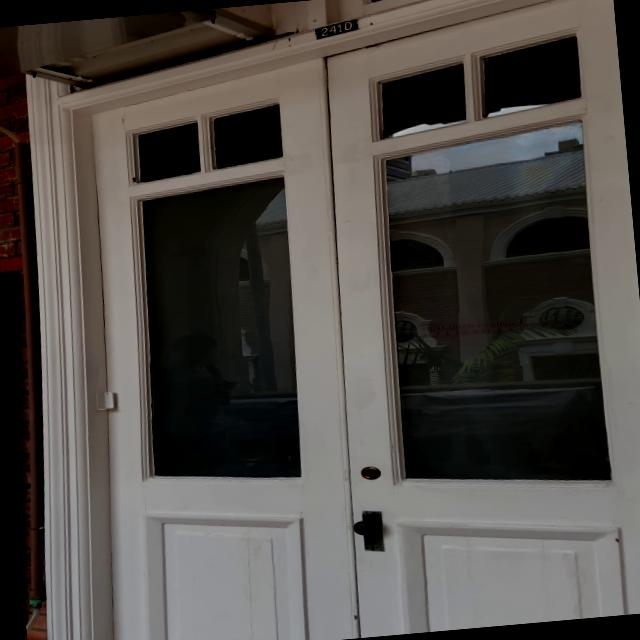room241d: (312, 16, 358, 42)
